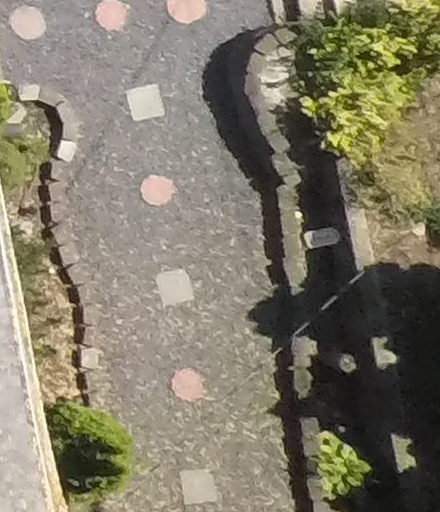container: (304, 225, 347, 254)
